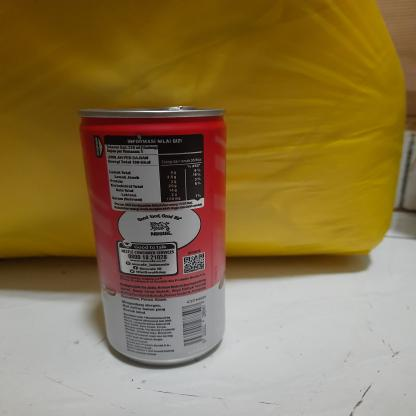mouse: (68, 100, 234, 370)
